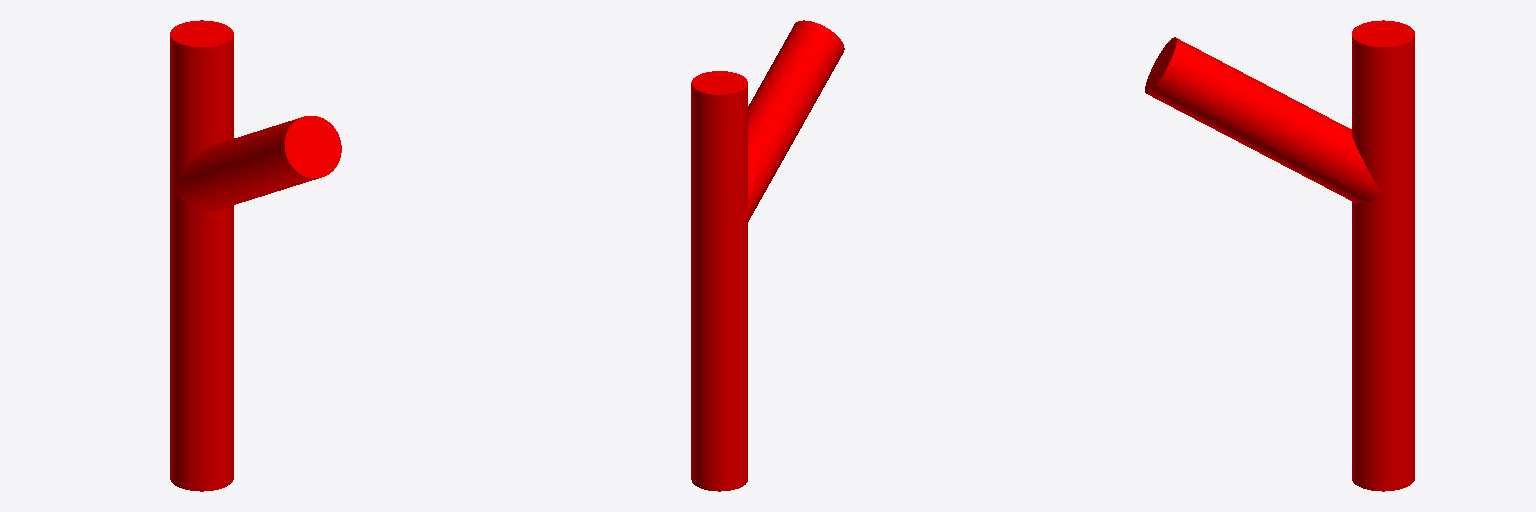
The robot description file, URDF, robot "tree.urdf":
<?xml version="1.0" ?>
<robot name="tree.urdf">
  <link name="baseLink">
    <inertial>
      <origin rpy="0 0 0" xyz="0 0 0"/>
       <mass value=".1"/>
       <inertia ixx="1" ixy="0" ixz="0" iyy="1" iyz="0" izz="1"/>
    </inertial>
    <visual>
      <origin rpy="0 0 0" xyz="0 0 0"/>
      <geometry>
        <mesh filename="12.stl" scale="1 1 1" />
      </geometry>
      <material name="red">
        <color rgba="1 0 0 1"/>
      </material>
    </visual>
    <collision>
      <origin rpy="0 0 0" xyz="0 0 0"/>
      <geometry>
        <mesh filename="12_convex.obj" scale="1 1 1" />
      </geometry>
    </collision>
  </link>
</robot>

--- Facts derived from the render (not from the file) ---
The picture shows the robot from 3 angles, left to right: view 1: azimuth 30°, elevation 25°; view 2: azimuth 150°, elevation 25°; view 3: azimuth 270°, elevation 25°; orthographic projection.
Robot: tree.urdf — 1 links, 0 joints (none); root link baseLink; default pose: all joints at 0.
Visible links, largest first — view 1: baseLink; view 2: baseLink; view 3: baseLink.
Boxes of the visible links, box(x1,y1,x2,y2) form: baseLink: box(170, 20, 341, 491); baseLink: box(691, 20, 844, 491); baseLink: box(1145, 20, 1414, 491).
Bounding box of the posed robot: 0.0324 × 0.1378 × 0.25 m (x, y, z).
Meshes: 1 distinct files referenced, 1 mesh visuals loaded (1 binary STL).